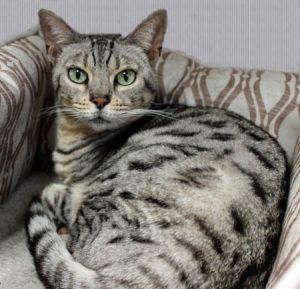bengal: (36, 5, 180, 136)
